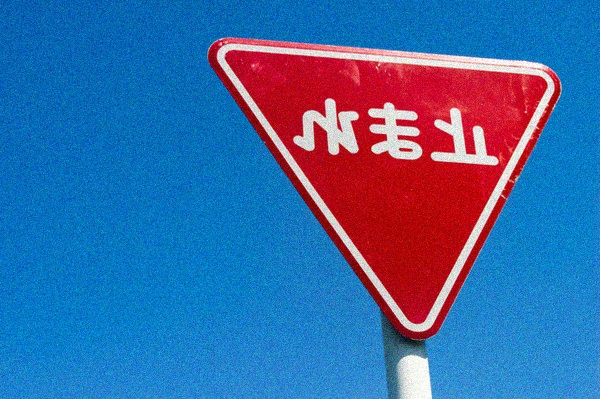Regulatory_sign_triangle: (200, 23, 579, 345)
